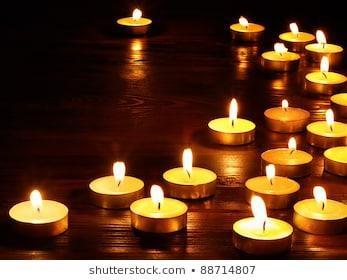fire: (249, 194, 268, 222), (149, 182, 165, 207), (314, 183, 329, 208), (111, 160, 126, 184), (181, 146, 194, 173), (29, 187, 43, 210), (227, 96, 240, 120), (265, 162, 276, 182)
